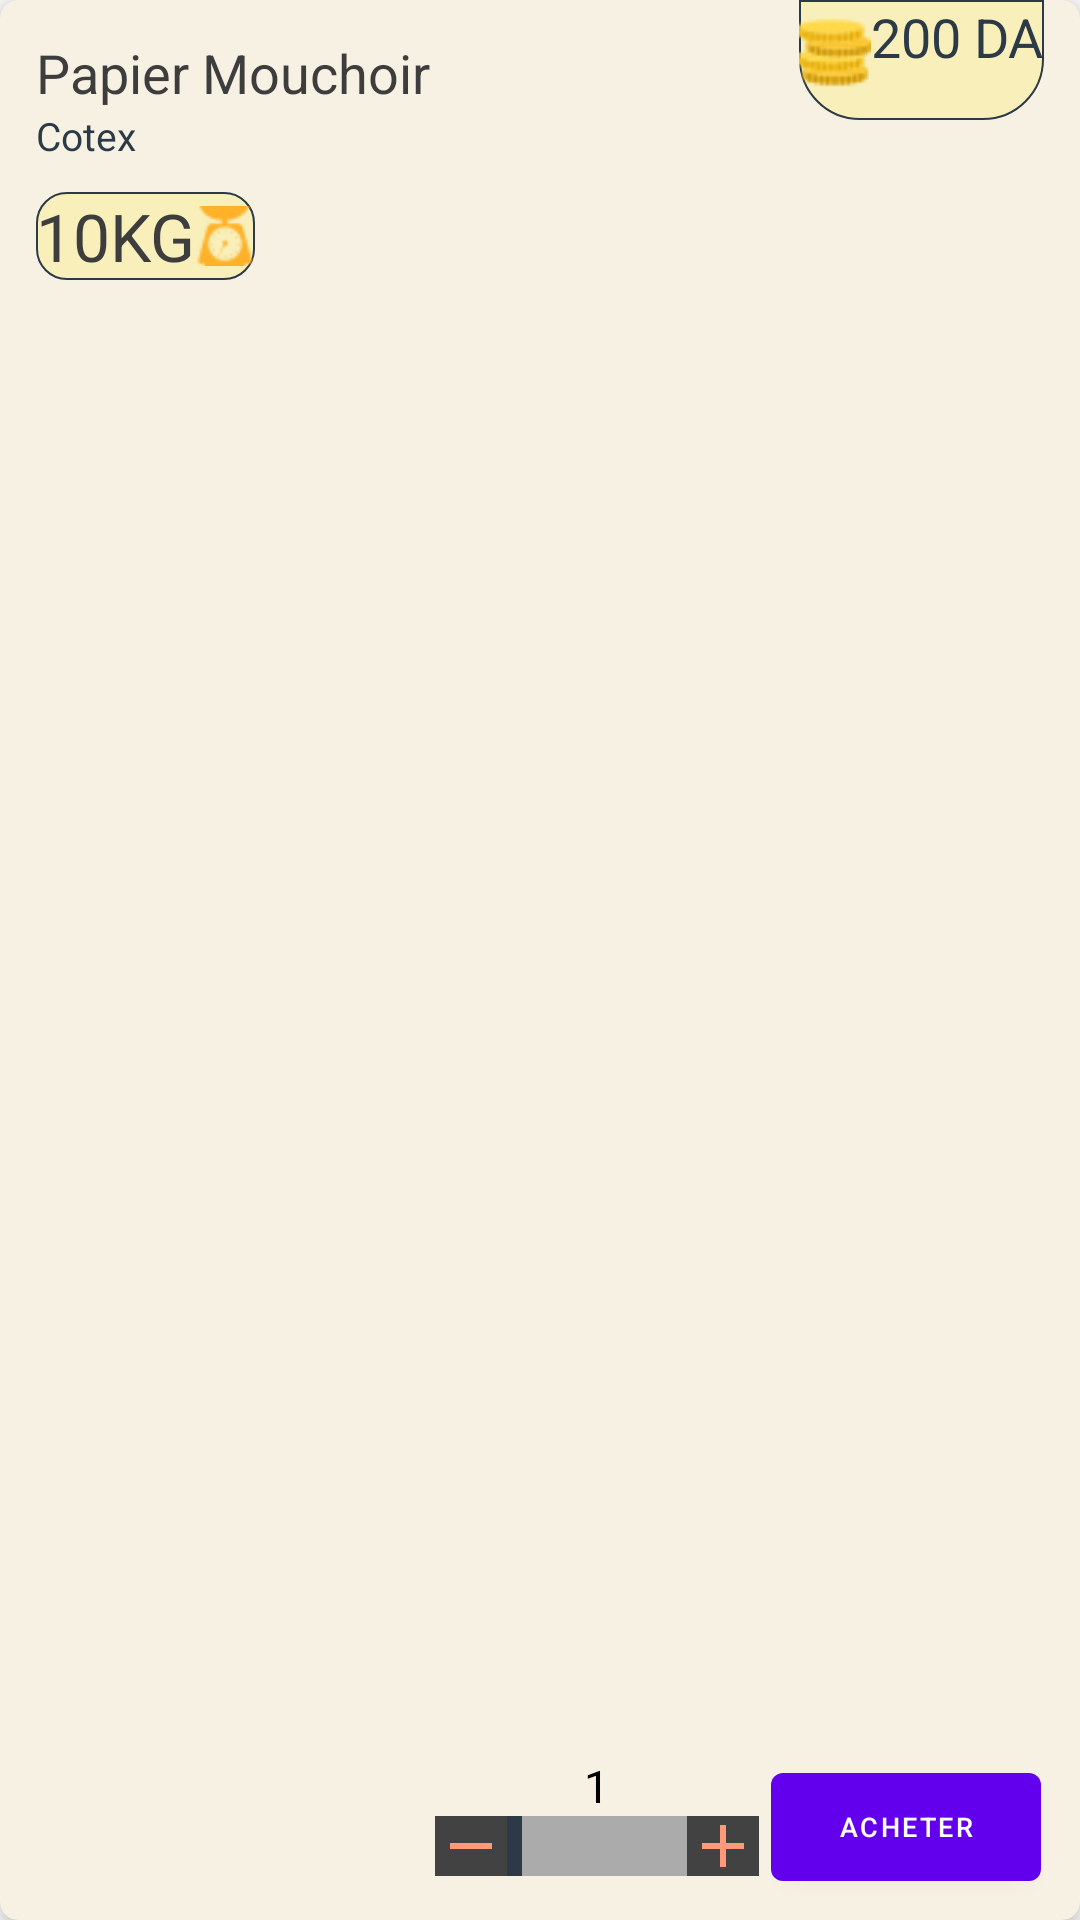

Screen size 1080px x 1920px. Icon name, then its center in pixels as point (x, y):
add: point (723, 1846)
coins: point (835, 52)
food scale tool: point (225, 236)
minus: point (471, 1846)
